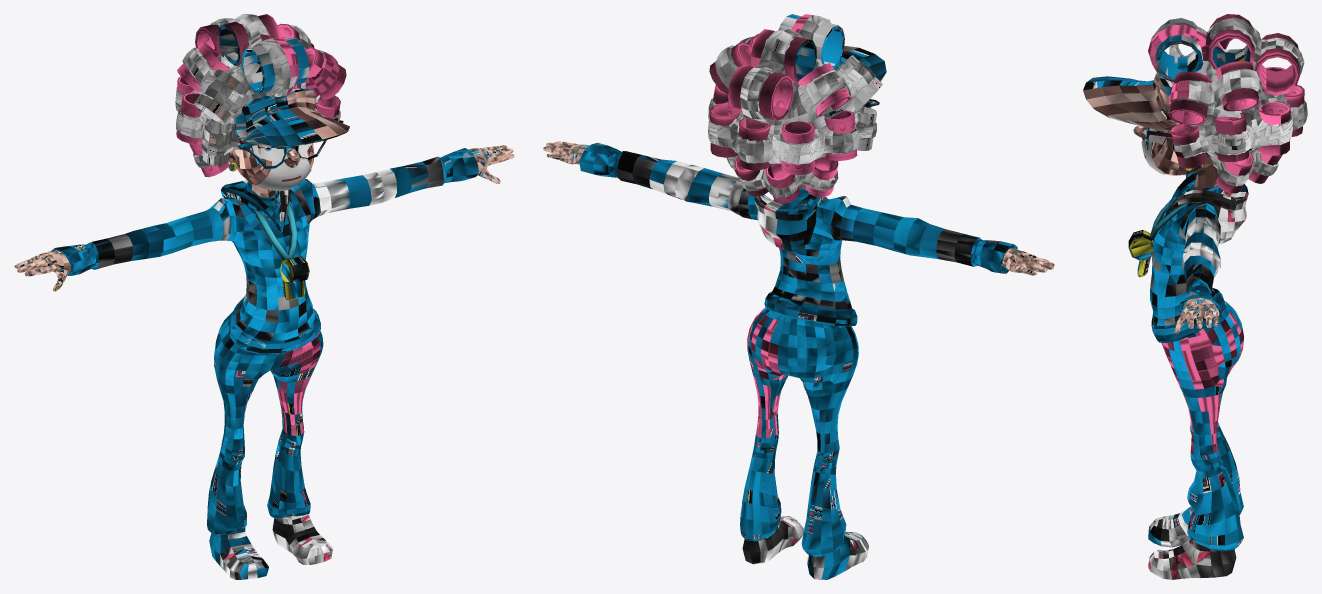
The model's file is Sporty Granny.gltf.
3 views of the same model, side by side, from view 1: azimuth 30°, elevation 25°; view 2: azimuth 150°, elevation 25°; view 3: azimuth 270°, elevation 25° (orthographic). The views are drawn at different scales.
Visible parts, largest first — view 1: Fitness_Grandma_BodyGeo, Fitness_Grandma_MouthAnimGeo; view 2: Fitness_Grandma_BodyGeo; view 3: Fitness_Grandma_BodyGeo.
Part boxes in pixels (x1=…): Fitness_Grandma_BodyGeo: x1=14, y1=14, x2=514, y2=579; Fitness_Grandma_MouthAnimGeo: x1=256, y1=153, x2=311, y2=191; Fitness_Grandma_BodyGeo: x1=543, y1=14, x2=1054, y2=579; Fitness_Grandma_BodyGeo: x1=1083, y1=14, x2=1307, y2=579.
Size of the model in its own units: 190 by 195 by 73.73.
Materials: 4 (4 with a texture image).
